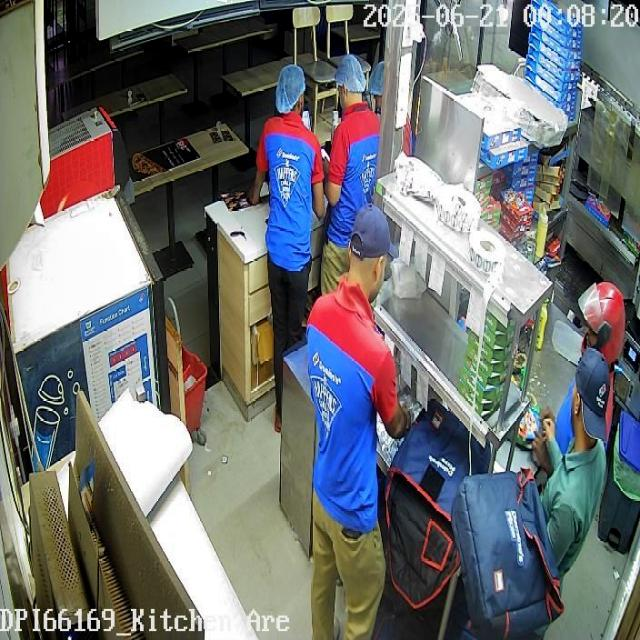helmet: (579, 282, 626, 365)
